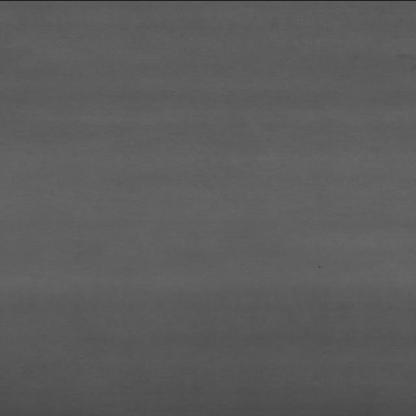inclusion: (301, 260, 332, 274)
